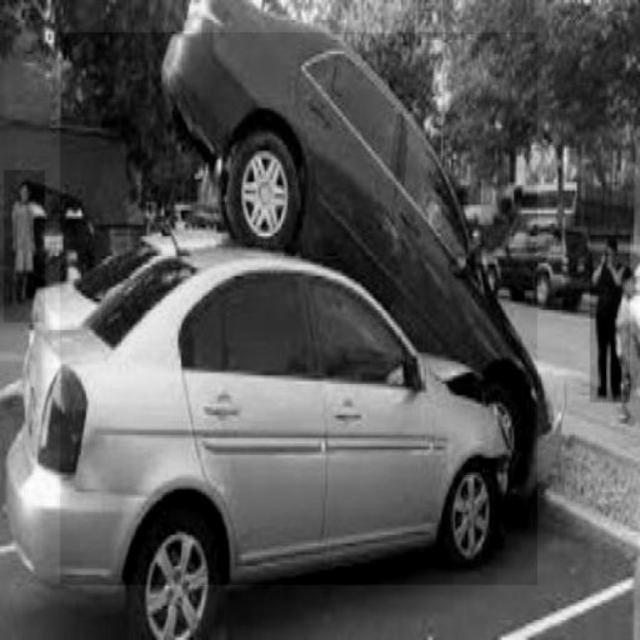accident: (60, 33, 537, 585)
person: (590, 234, 630, 402), (4, 170, 45, 322)
vehicle: (489, 217, 590, 307)
